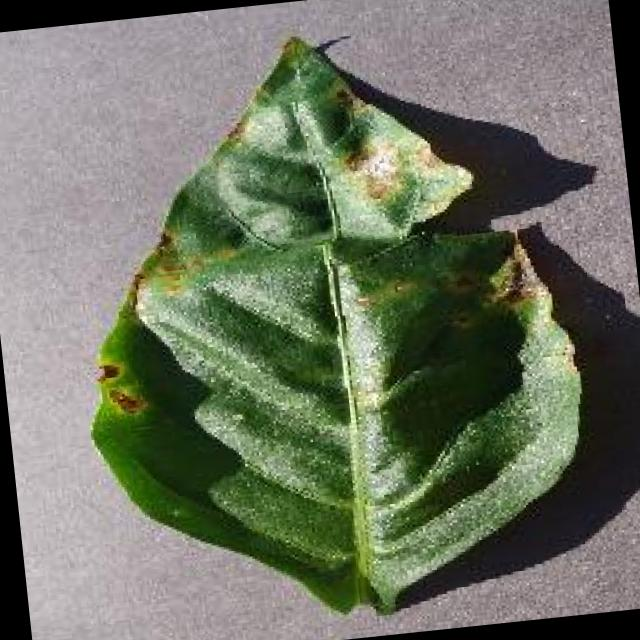Chilli_Bacterial_Spot: (48, 4, 607, 640), (130, 218, 245, 306), (336, 130, 408, 207), (478, 232, 540, 310), (88, 354, 149, 422), (337, 136, 378, 176), (104, 382, 146, 418), (90, 356, 123, 386), (360, 174, 393, 204)
